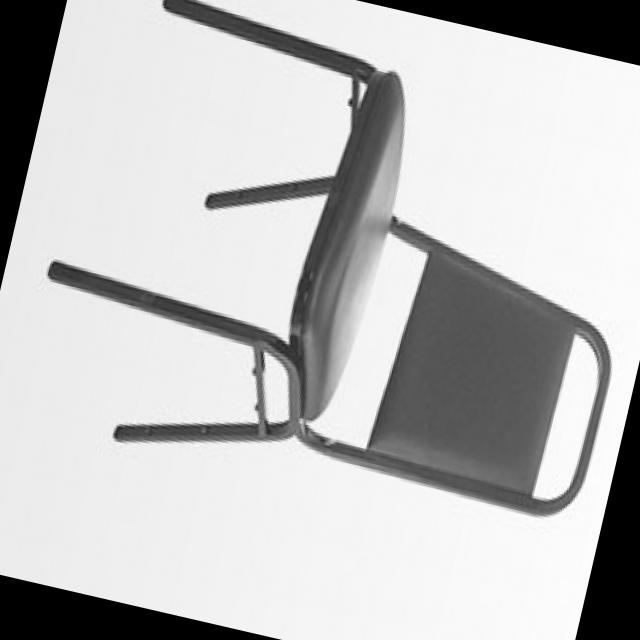Chair: (4, 0, 640, 552)
